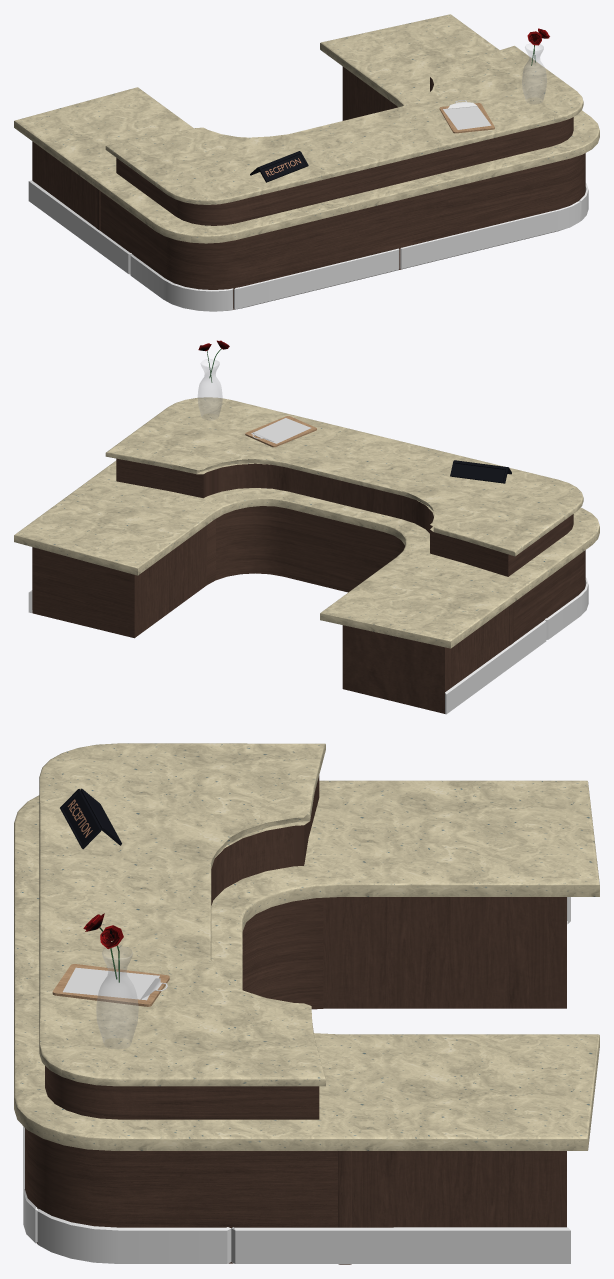
File: recdesk.fbx
3 views of the same model, one above another, from view 1: azimuth 30°, elevation 25°; view 2: azimuth 150°, elevation 25°; view 3: azimuth 270°, elevation 25° (orthographic). The views are drawn at different scales.
Visible parts, largest first — view 1: Cube; view 2: Cube; view 3: Cube.
Boxes of the visible parts, left/top/right/bottom form: Cube: left=14, top=14, right=599, bottom=311; Cube: left=14, top=340, right=599, bottom=714; Cube: left=14, top=743, right=599, bottom=1264.
Size of the model in its own units: 536 by 215 by 370.
